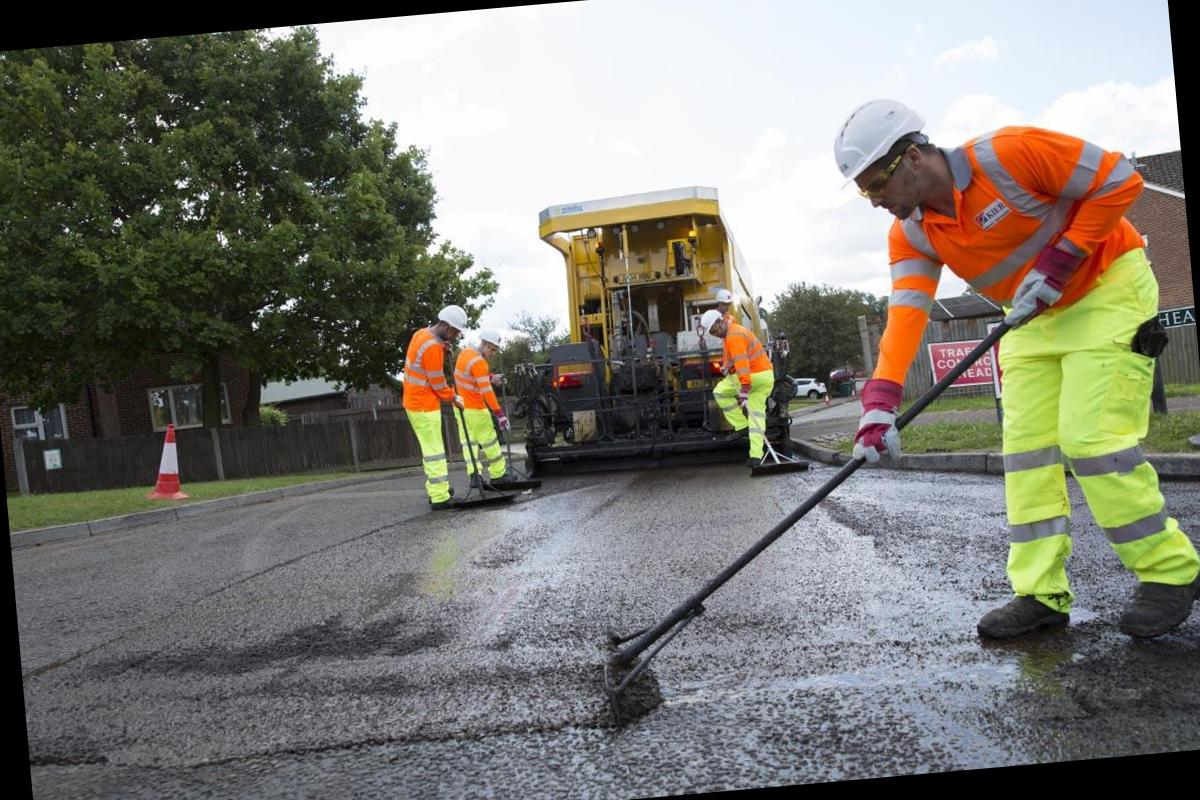Vest: (884, 140, 1150, 326), (395, 322, 447, 408), (712, 320, 776, 380), (453, 344, 494, 412)
